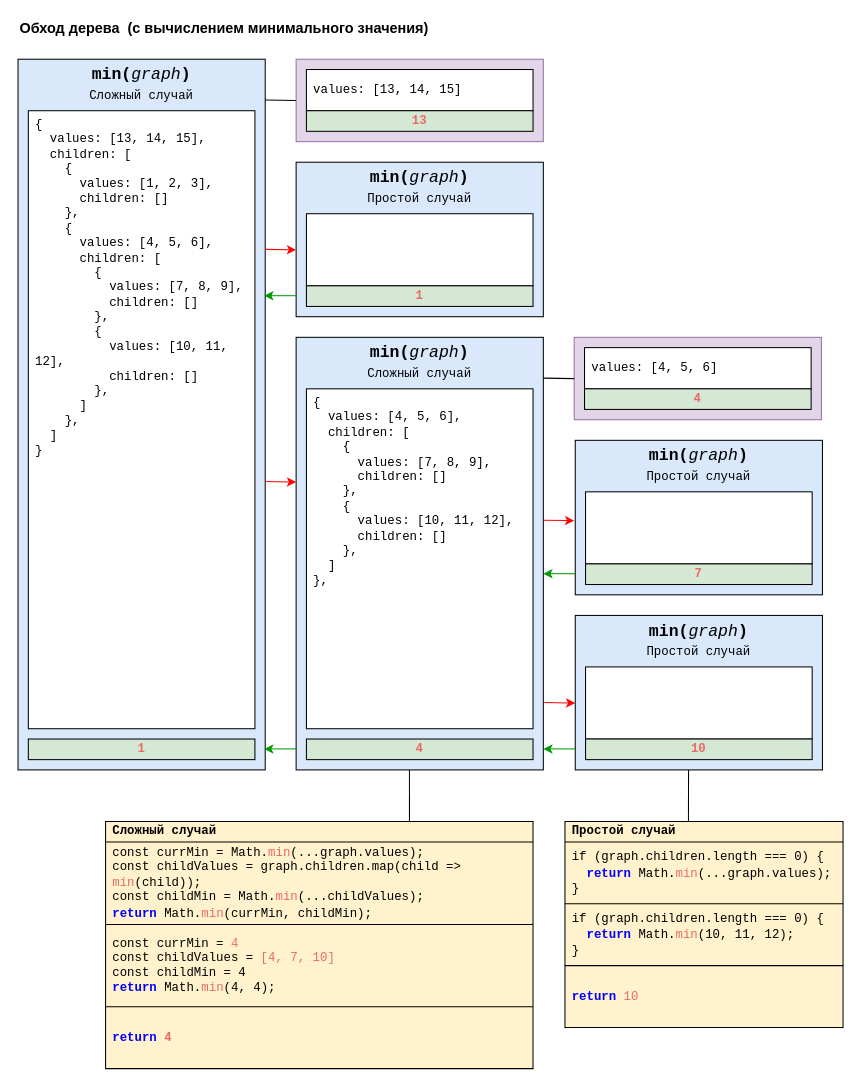
This 861x1087 diagram has some shape labels left out. Here are the shapes that lost their labels. From the top down, the box of each, then its label:
(305, 213, 533, 286): { values: [1, 2, 3], children: [] },
(585, 491, 812, 564): { values: [7, 8, 9], children: [] },
(585, 666, 812, 739): { values: [10, 11, 12], children: [] },
